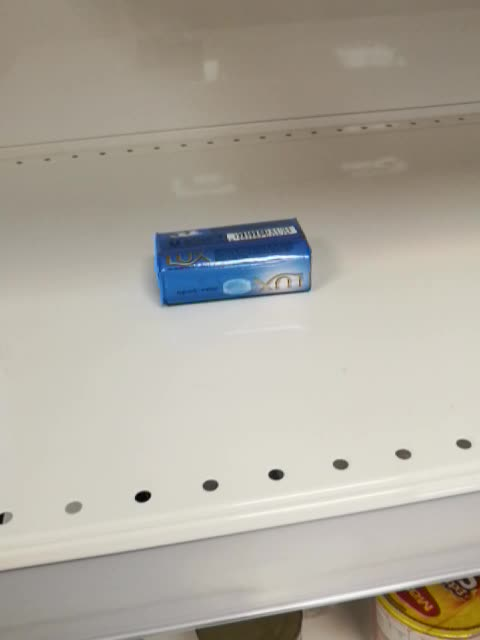soap: (151, 216, 314, 308)
